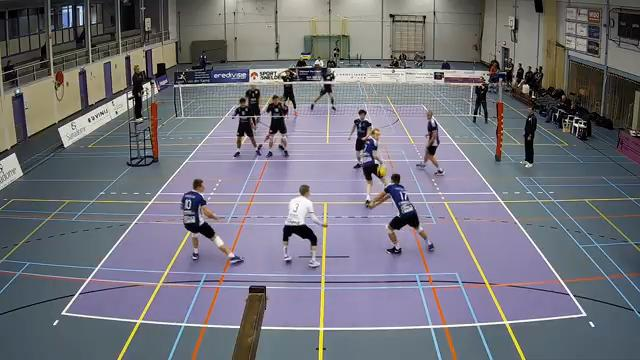Player: (181, 179, 243, 263), (283, 185, 327, 267), (362, 128, 387, 205), (416, 110, 444, 175), (232, 98, 260, 156), (266, 95, 288, 157), (348, 109, 371, 168), (311, 68, 335, 110), (279, 68, 297, 115), (245, 85, 260, 124)
Receive: (361, 163, 440, 259)
ball: (374, 164, 389, 179)
